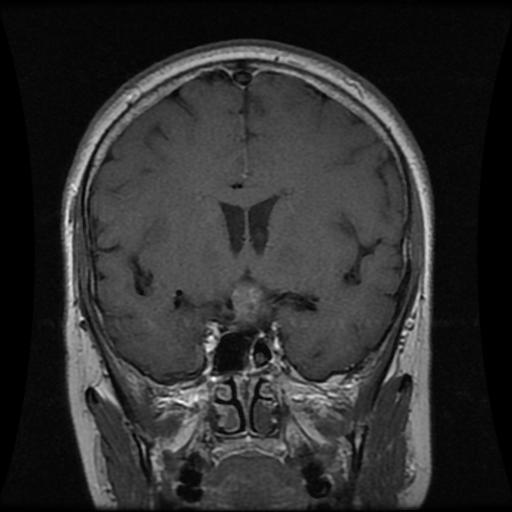Pituirity_tumour: (230, 279, 269, 322)
